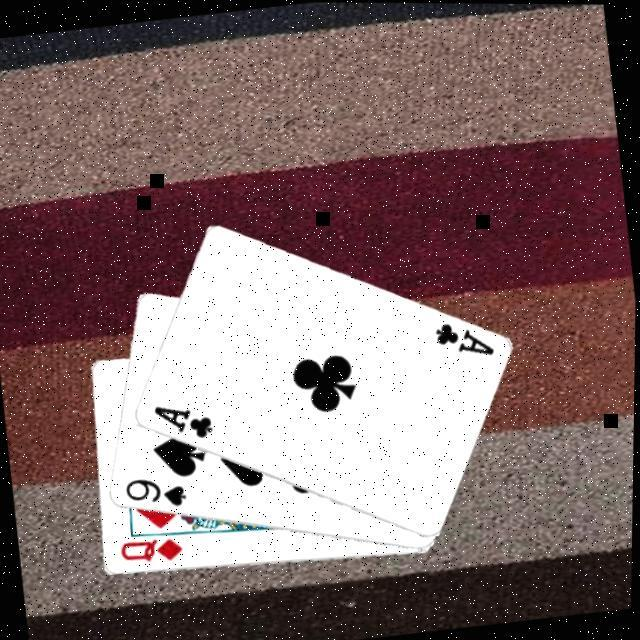9S: (119, 468, 191, 514)
AC: (147, 393, 215, 444), (429, 313, 497, 362)
QD: (114, 530, 185, 568)
